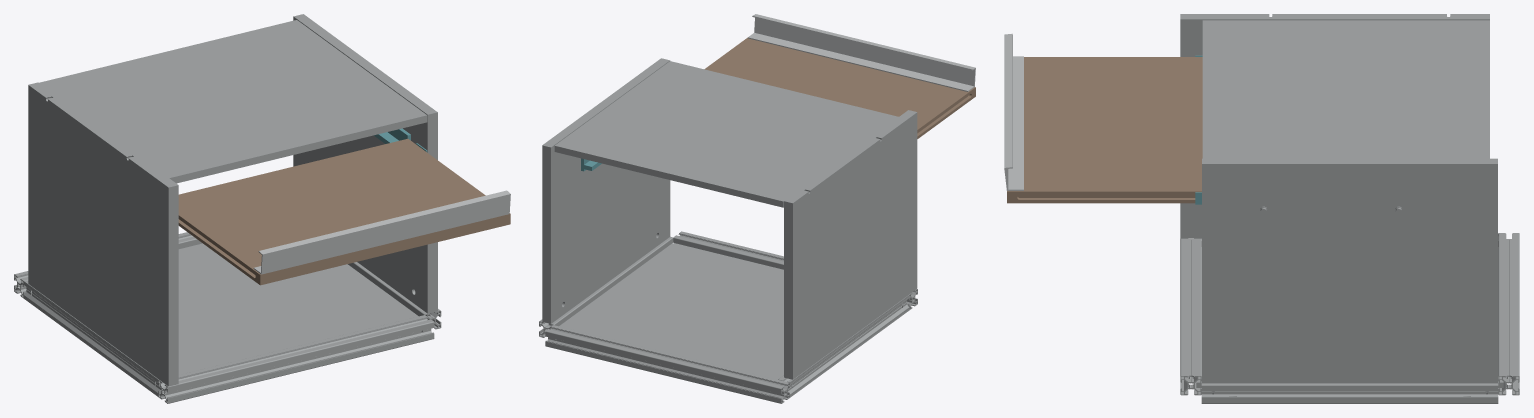
Rendered from mechanism.glb.
The picture shows the model from 3 angles, left to right: view 1: azimuth 30°, elevation 25°; view 2: azimuth 150°, elevation 25°; view 3: azimuth 270°, elevation 25°; orthographic projection. The views are drawn at different scales.
Visible parts, largest first — view 1: Shelf-Right-1, Center-18, Floor-Right-8, Plywood-infill-6, Beam-body-front, Right-wall-18, Display-ledge, Beam-body-center, Bottom-rail, Stile-L, Stile-R, Top-rail (+2 smaller); view 2: Shelf-Right-1, Center-18, Floor-Right-8, Right-wall-18, Plywood-infill-6, Display-ledge, Beam-body-rear, Beam-body-center, Beam-body-front, Beam-body-side-966, Stile-L, Stile-R; view 3: Right-wall-18, Shelf-Right-1, Plywood-infill-6, Beam-body-side-966, Center-18, Stile-R, Beam-body-rear, Beam-body-front, Display-ledge, Stile-L.
Boxes of the visible parts, left/top/right/bottom form: Shelf-Right-1: left=39, top=20, right=427, bottom=183; Center-18: left=28, top=82, right=178, bottom=386; Floor-Right-8: left=178, top=243, right=427, bottom=374; Plywood-infill-6: left=178, top=145, right=473, bottom=263; Beam-body-front: left=158, top=315, right=434, bottom=403; Right-wall-18: left=293, top=14, right=437, bottom=313; Display-ledge: left=253, top=190, right=510, bottom=274; Beam-body-center: left=23, top=280, right=161, bottom=396; Bottom-rail: left=272, top=217, right=498, bottom=282; Stile-L: left=178, top=203, right=272, bottom=285; Stile-R: left=396, top=138, right=510, bottom=226; Top-rail: left=178, top=141, right=399, bottom=198; Shelf-Right-1: left=554, top=61, right=898, bottom=207; Center-18: left=784, top=110, right=917, bottom=379; Floor-Right-8: left=550, top=243, right=783, bottom=379; Right-wall-18: left=542, top=58, right=670, bottom=323; Plywood-infill-6: left=715, top=41, right=957, bottom=118; Display-ledge: left=748, top=14, right=975, bottom=91; Beam-body-rear: left=545, top=325, right=789, bottom=403; Beam-body-center: left=778, top=295, right=909, bottom=397; Beam-body-front: left=673, top=231, right=917, bottom=310; Beam-body-side-966: left=539, top=236, right=673, bottom=337; Stile-L: left=917, top=87, right=975, bottom=138; Stile-R: left=704, top=37, right=757, bottom=71; Right-wall-18: left=1202, top=158, right=1497, bottom=383; Shelf-Right-1: left=1202, top=20, right=1489, bottom=158; Plywood-infill-6: left=1024, top=63, right=1202, bottom=184; Beam-body-side-966: left=1201, top=376, right=1498, bottom=403; Center-18: left=1180, top=14, right=1489, bottom=238; Stile-R: left=1007, top=185, right=1201, bottom=203; Beam-body-rear: left=1498, top=233, right=1519, bottom=395; Beam-body-front: left=1180, top=238, right=1201, bottom=395; Display-ledge: left=1004, top=33, right=1023, bottom=190; Stile-L: left=1024, top=57, right=1202, bottom=63.
Bounding box in the file's own units: 0.5066 × 0.37 × 0.7248.
